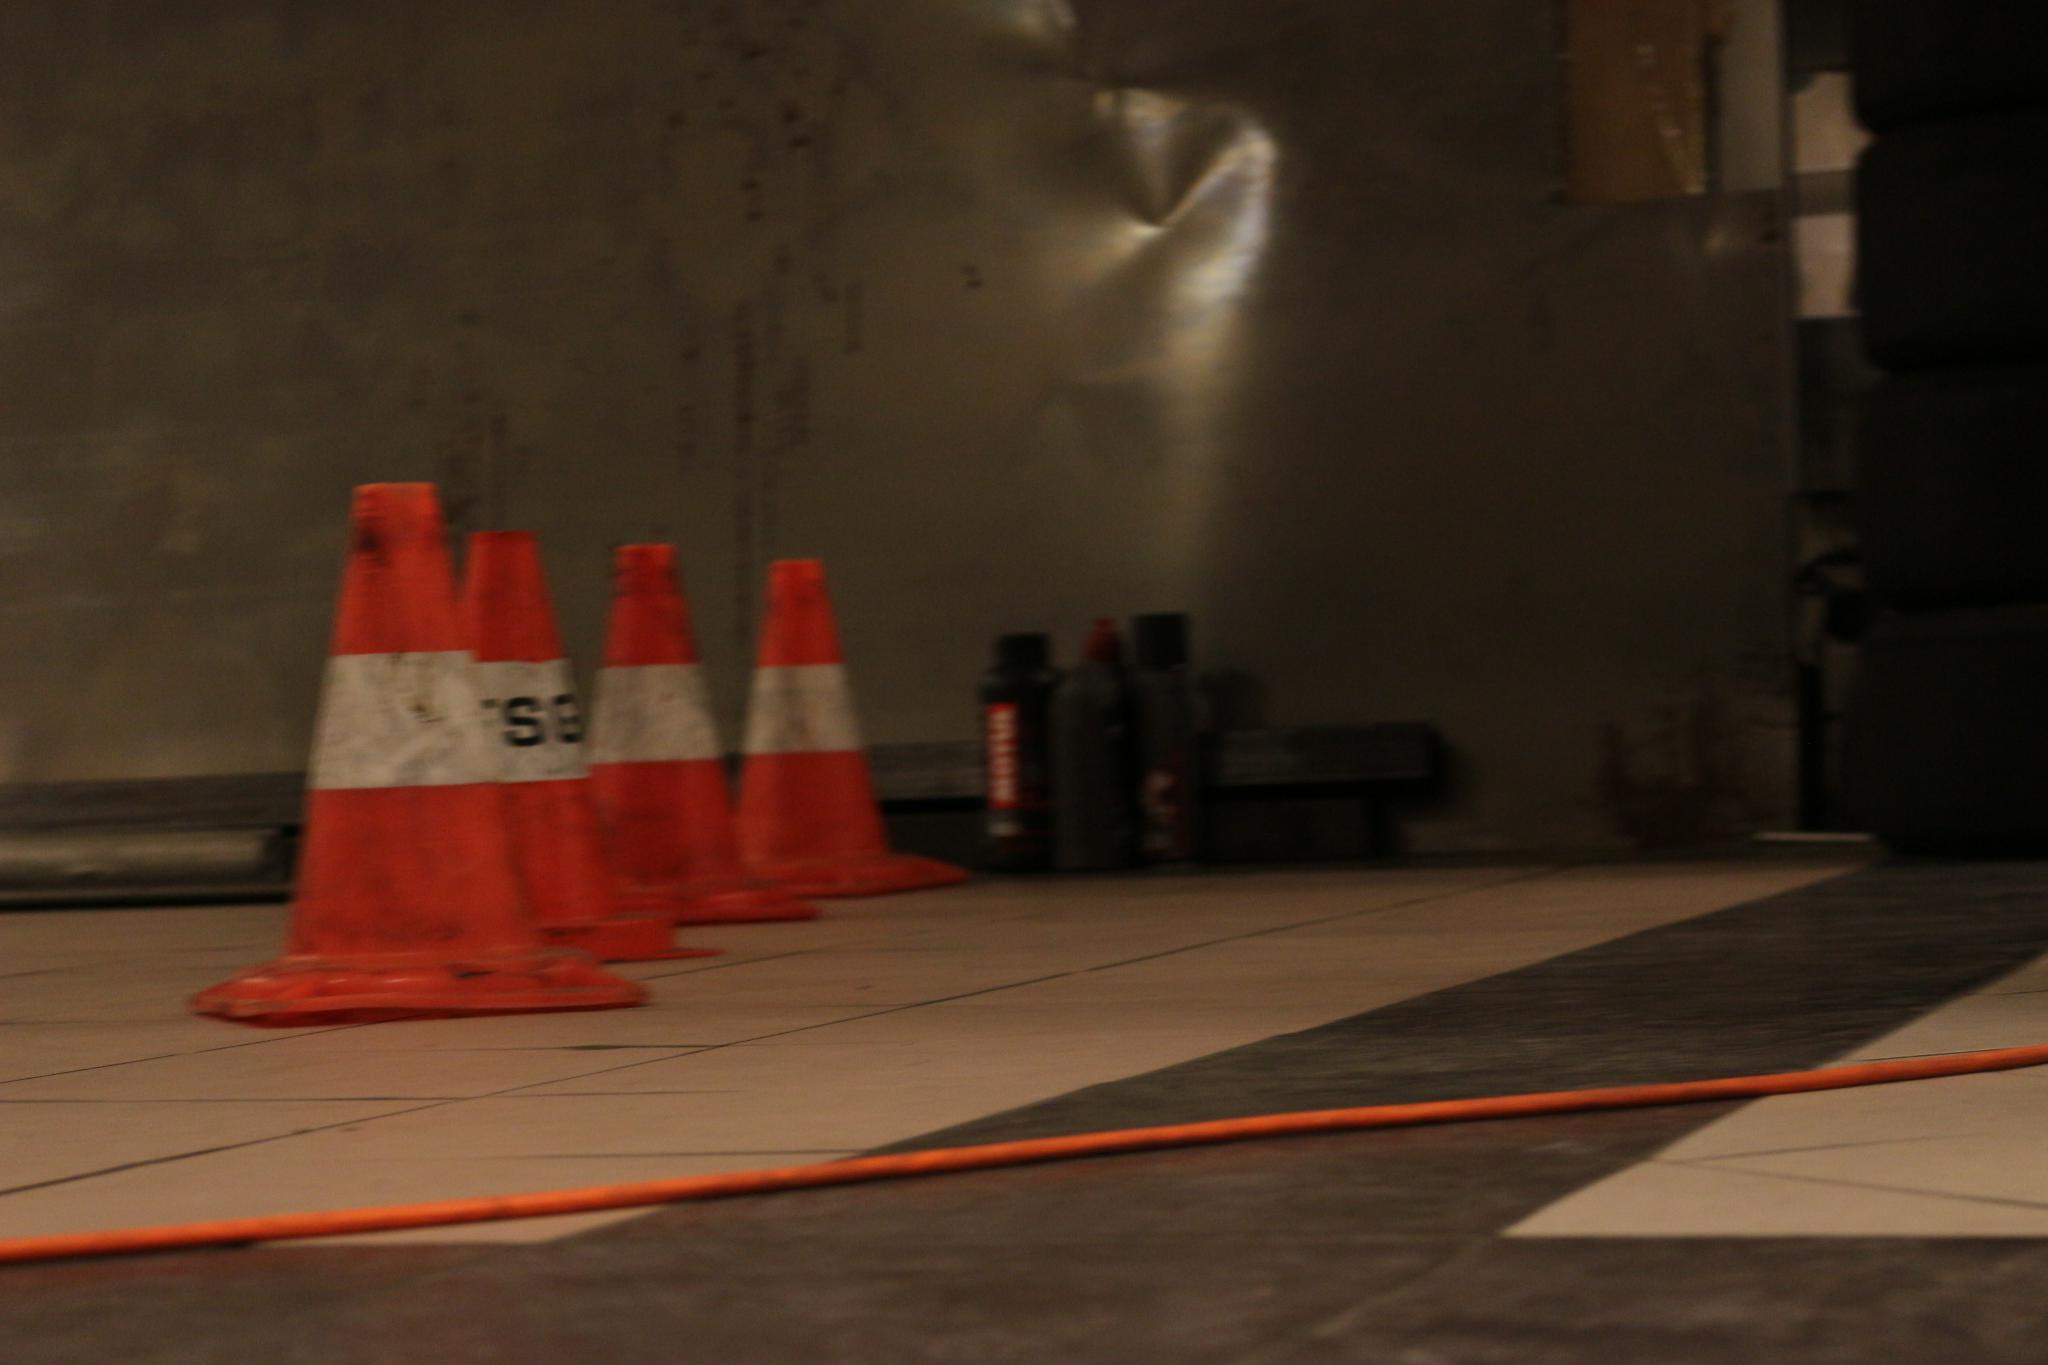Orange_Cone: (233, 466, 588, 1028), (410, 497, 700, 981), (545, 532, 807, 943), (700, 556, 938, 905)
